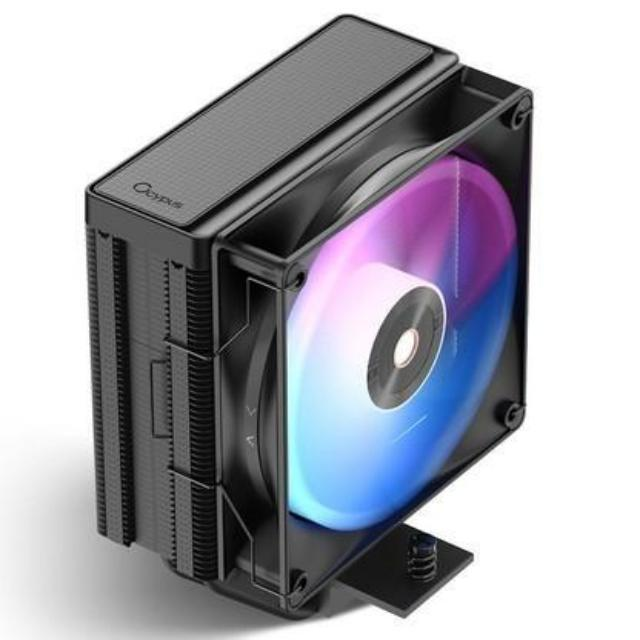CPU_Fan: (81, 19, 533, 621)
